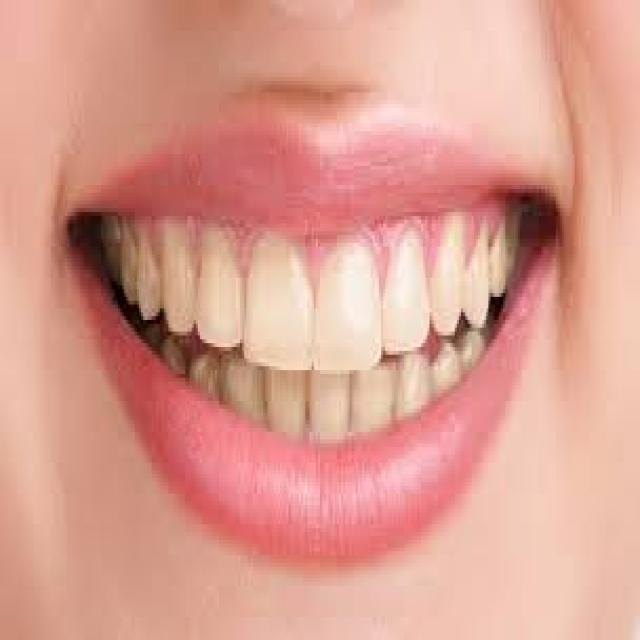tooth: (244, 239, 312, 374), (318, 243, 381, 366), (381, 231, 434, 347), (198, 231, 238, 347), (160, 216, 198, 335), (428, 216, 463, 335), (459, 220, 495, 324), (137, 228, 170, 316), (221, 359, 263, 428), (268, 378, 310, 447), (310, 374, 354, 436), (354, 374, 398, 436), (394, 351, 432, 420), (154, 336, 187, 386), (434, 347, 465, 393), (114, 220, 132, 297), (194, 358, 219, 412), (490, 239, 510, 305), (507, 212, 520, 278), (457, 336, 488, 362)
